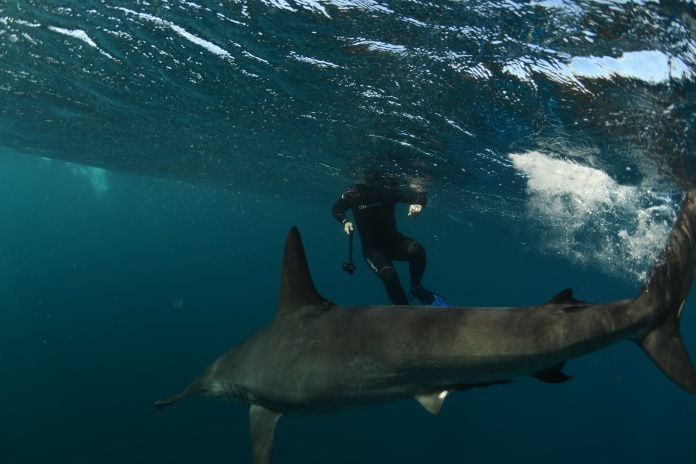Hammer: (125, 210, 696, 460)
